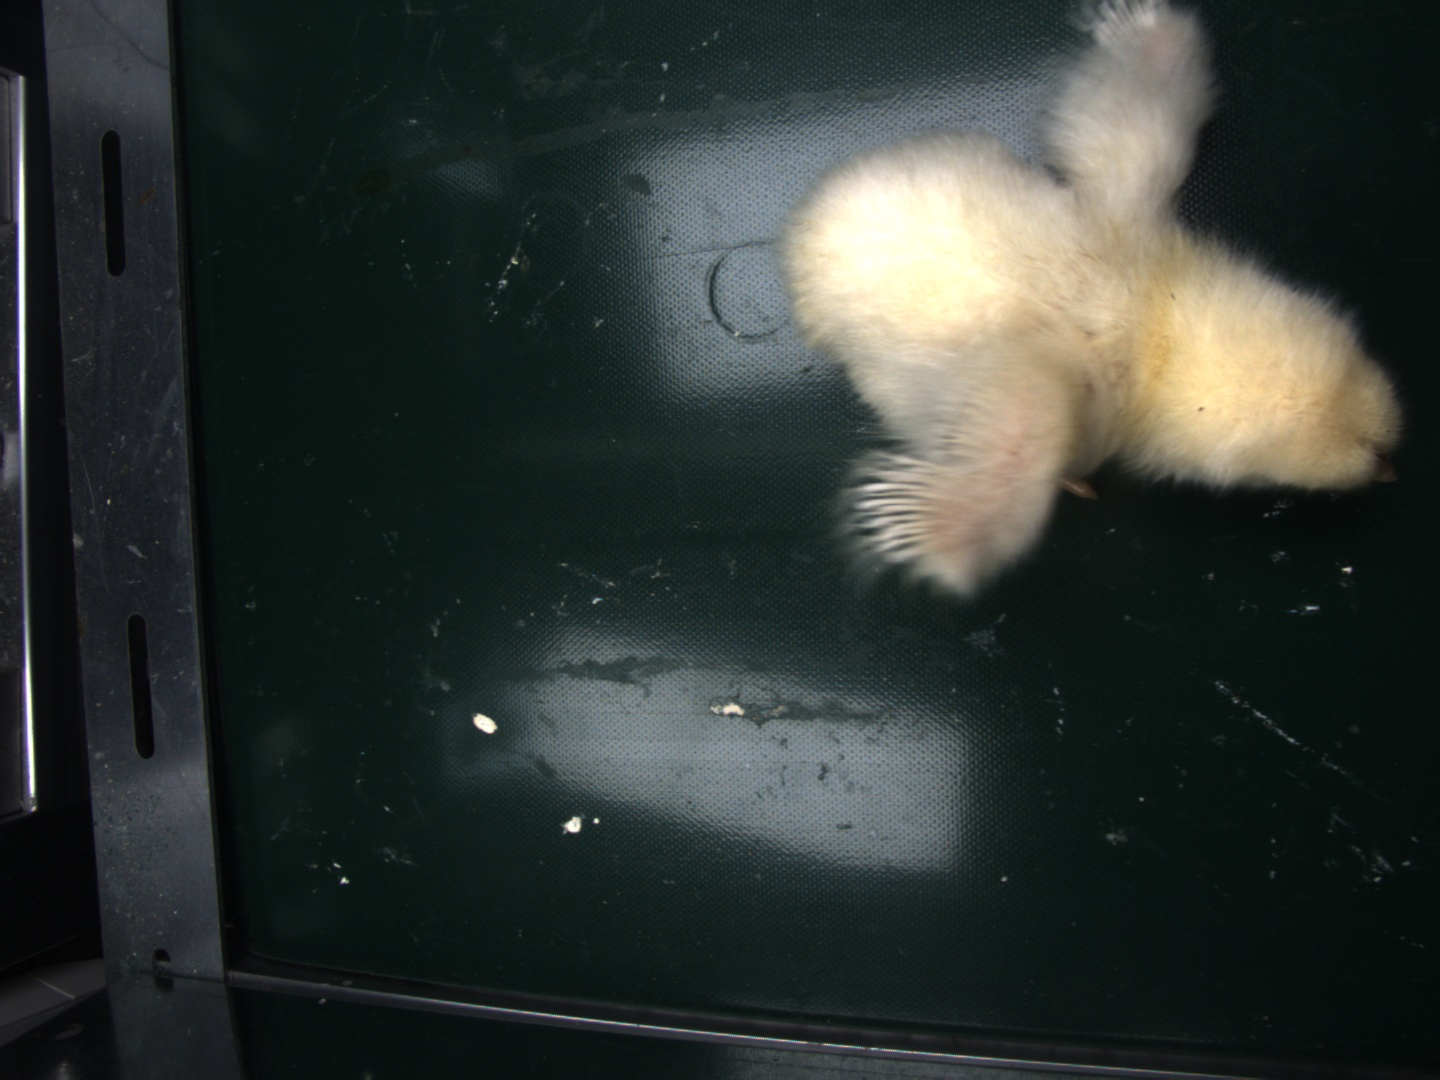male: (849, 457, 947, 567)
